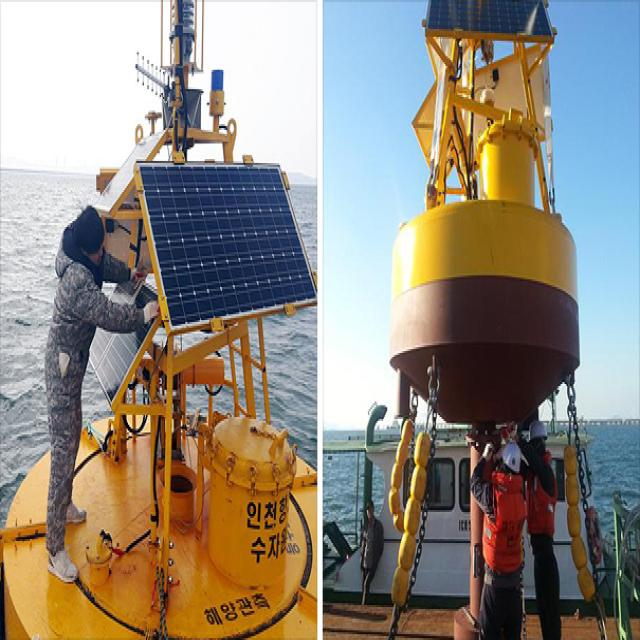marque: (10, 8, 319, 635), (342, 1, 625, 631)
